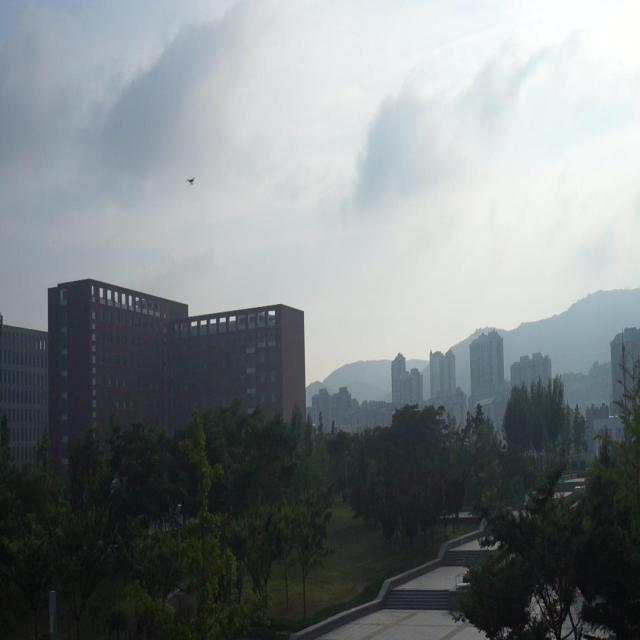drone: (186, 174, 196, 188)
